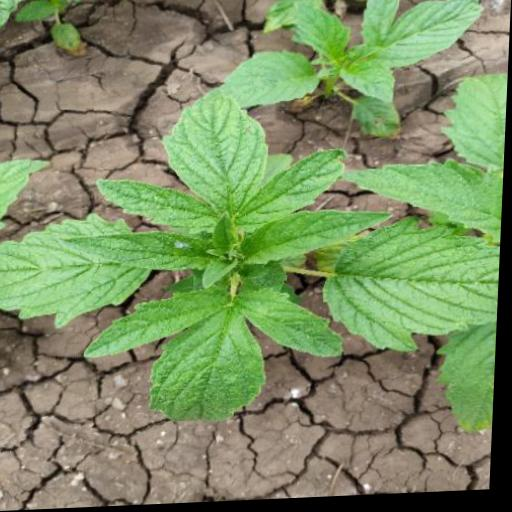crop: (0, 90, 367, 441), (346, 54, 509, 459), (206, 0, 488, 152)
